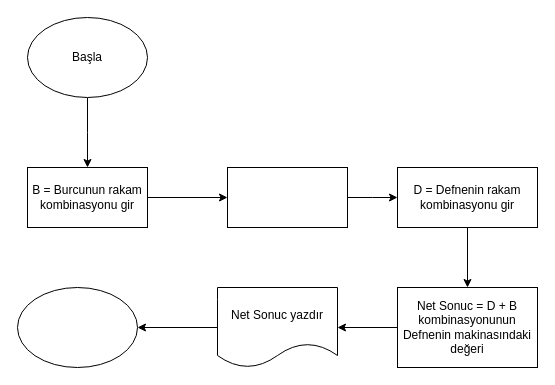
This 555x385 diagram has some shape labels left out. Each missing label, with the centre of its shape:
"BS = 95 - B" belongs at point (287, 197).
"Dur" belongs at point (77, 327).
